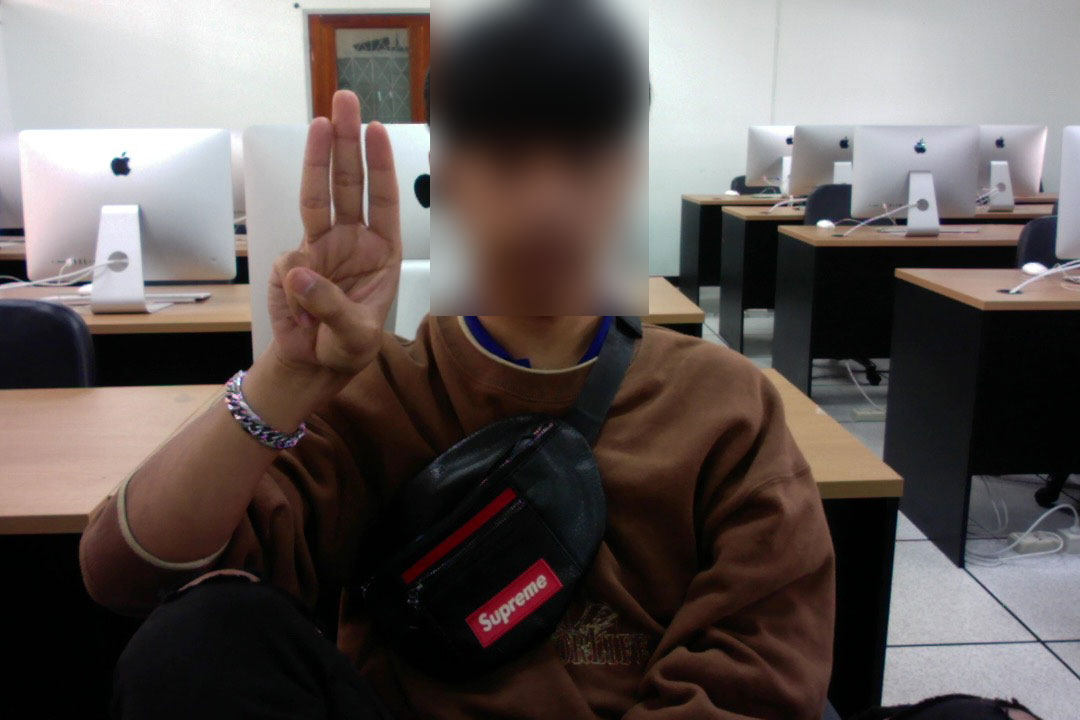wor: (251, 90, 418, 377)
